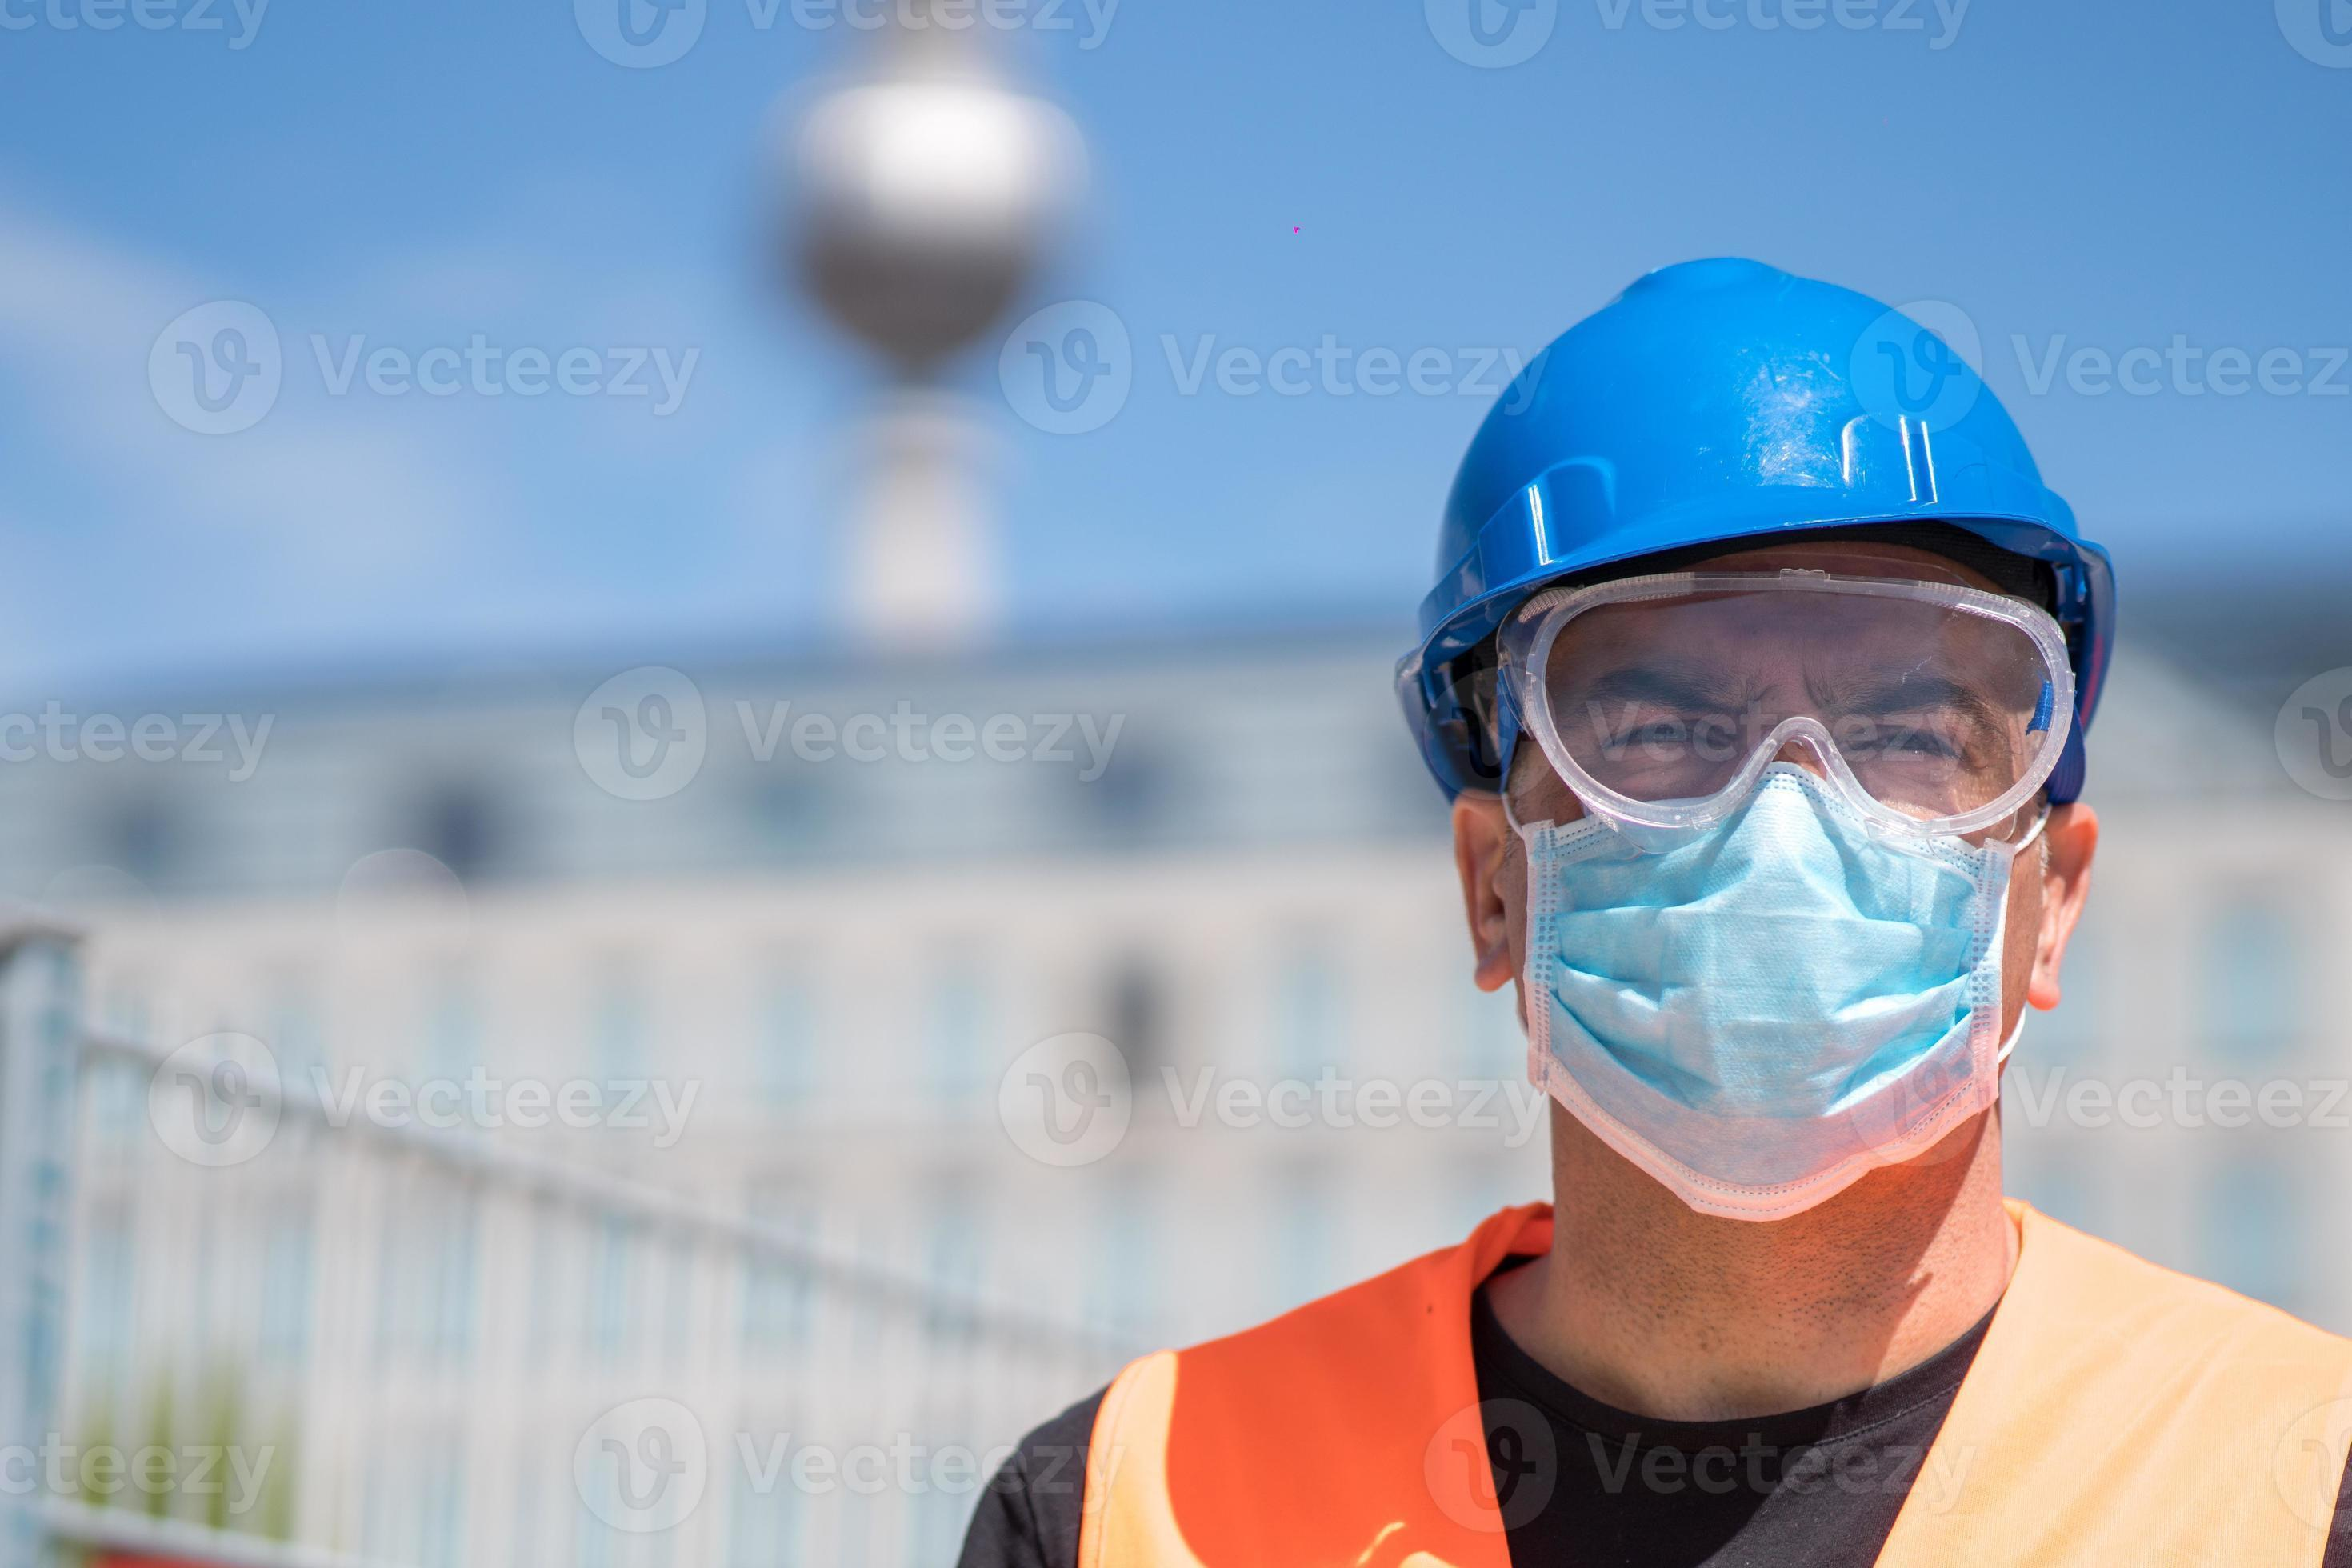hardhat: (1394, 255, 2123, 678)
worker: (956, 250, 2352, 1566)
